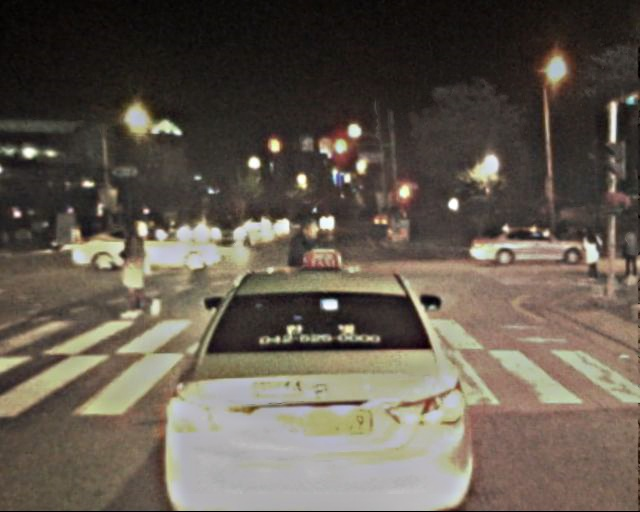person: (273, 219, 325, 345), (117, 220, 156, 316), (579, 229, 605, 293), (615, 226, 640, 288)
